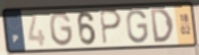4: (27, 11, 48, 49)
6: (77, 10, 98, 47)
D: (148, 7, 176, 45)
G: (48, 10, 75, 49), (125, 8, 150, 45)
P: (98, 9, 123, 46)
